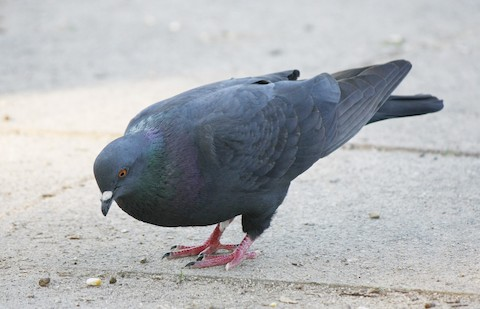pigeon: (84, 52, 446, 278)
